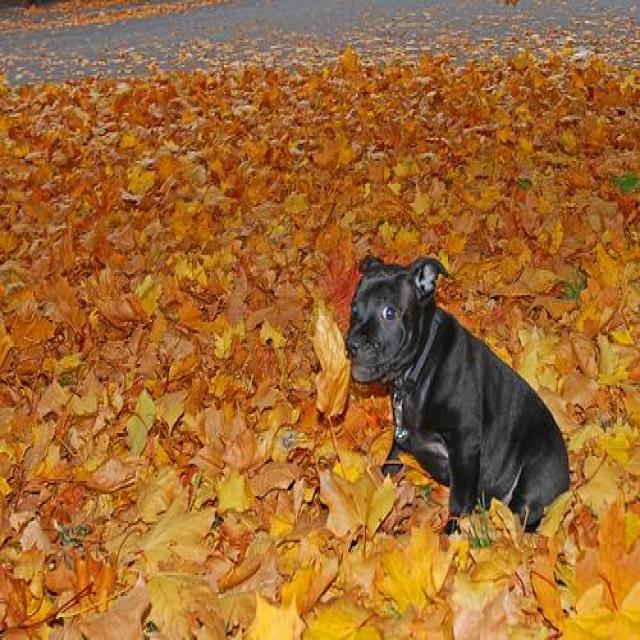staffordshire_bullterrier: (344, 253, 571, 538)
